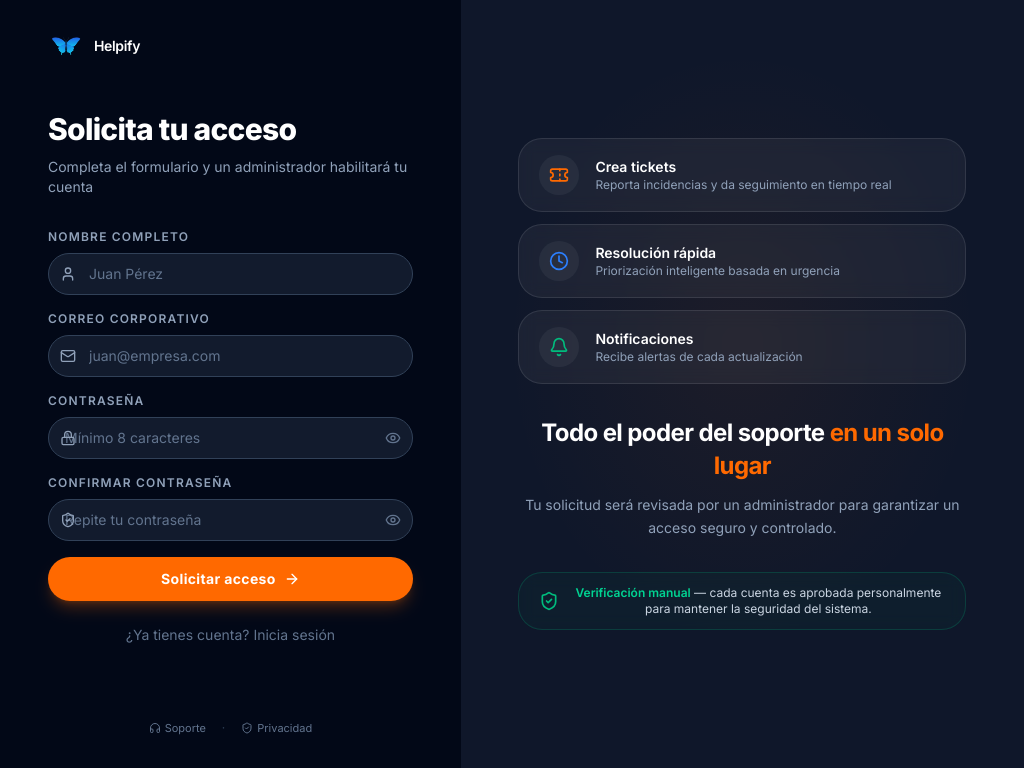
Test: RegisterPage › shows validation error for short password
# Submit with short password
Type "Test User" into the field with placeholder "Juan Pérez" at (230,274), box [48, 252, 413, 294]
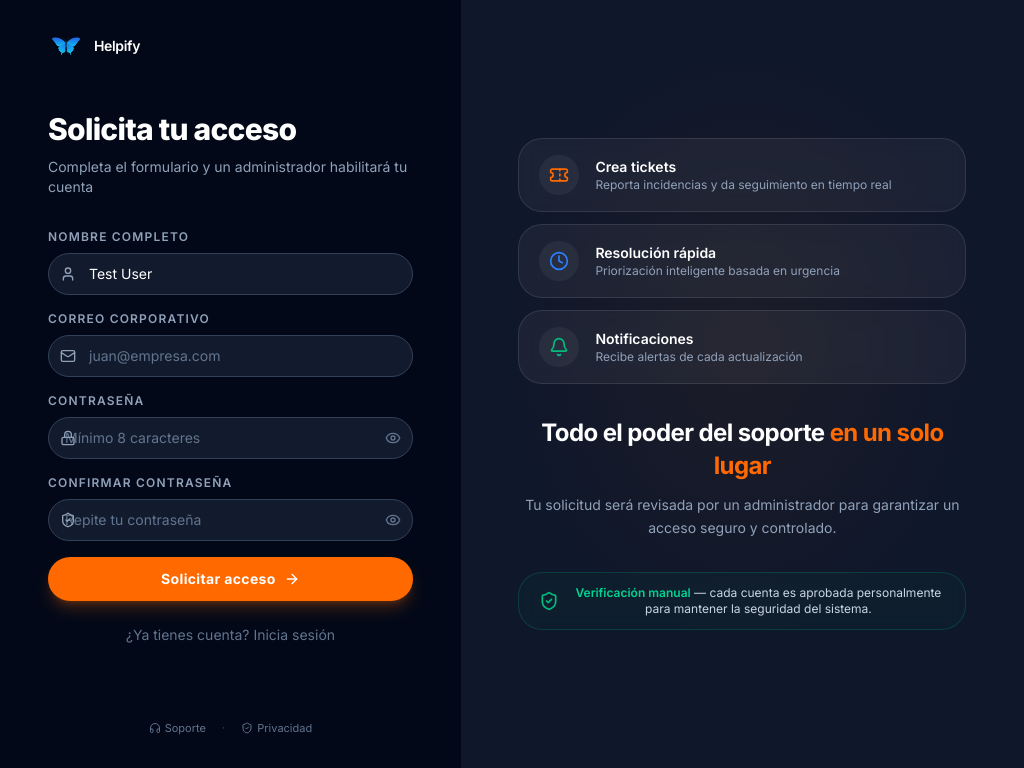
Type "test@example.com" into the field with placeholder "juan@empresa.com" at (230,356), box [48, 334, 413, 376]
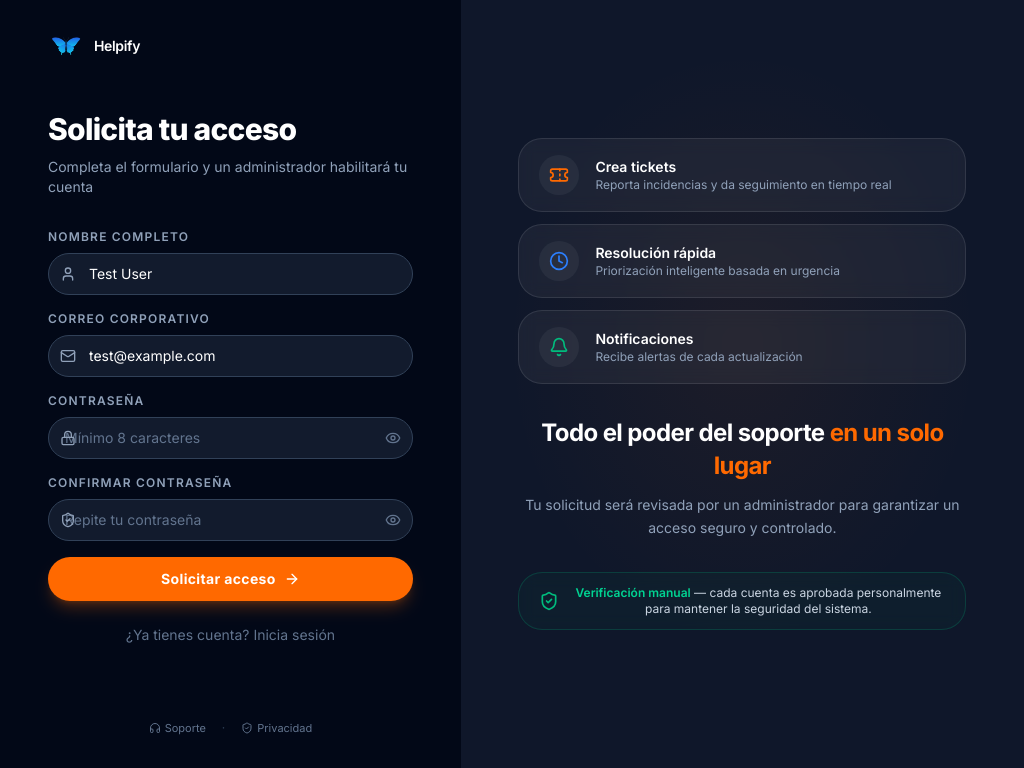
Type "123" into the password field with placeholder "Mínimo 8 caracteres" at (230,438), box [48, 416, 413, 458]
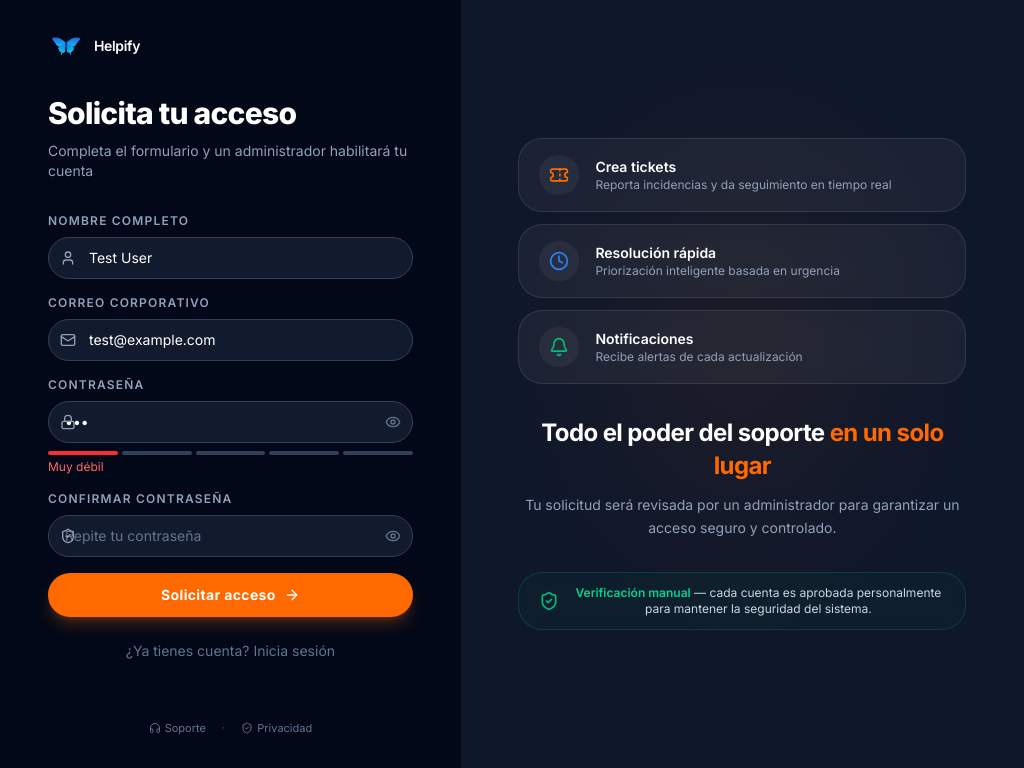
Click the button "Solicitar acceso" at (230,594), box [48, 572, 413, 616]
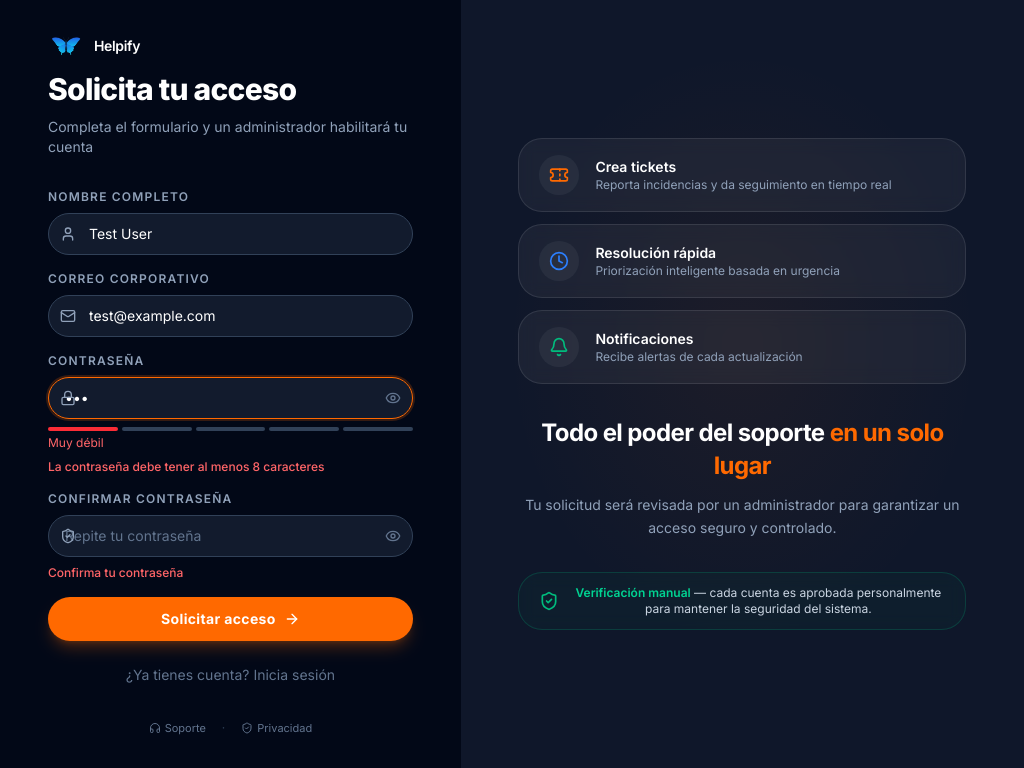
Expected: the text "La contraseña debe tener al menos 8 caracteres" is shown, [48, 458, 324, 474]
